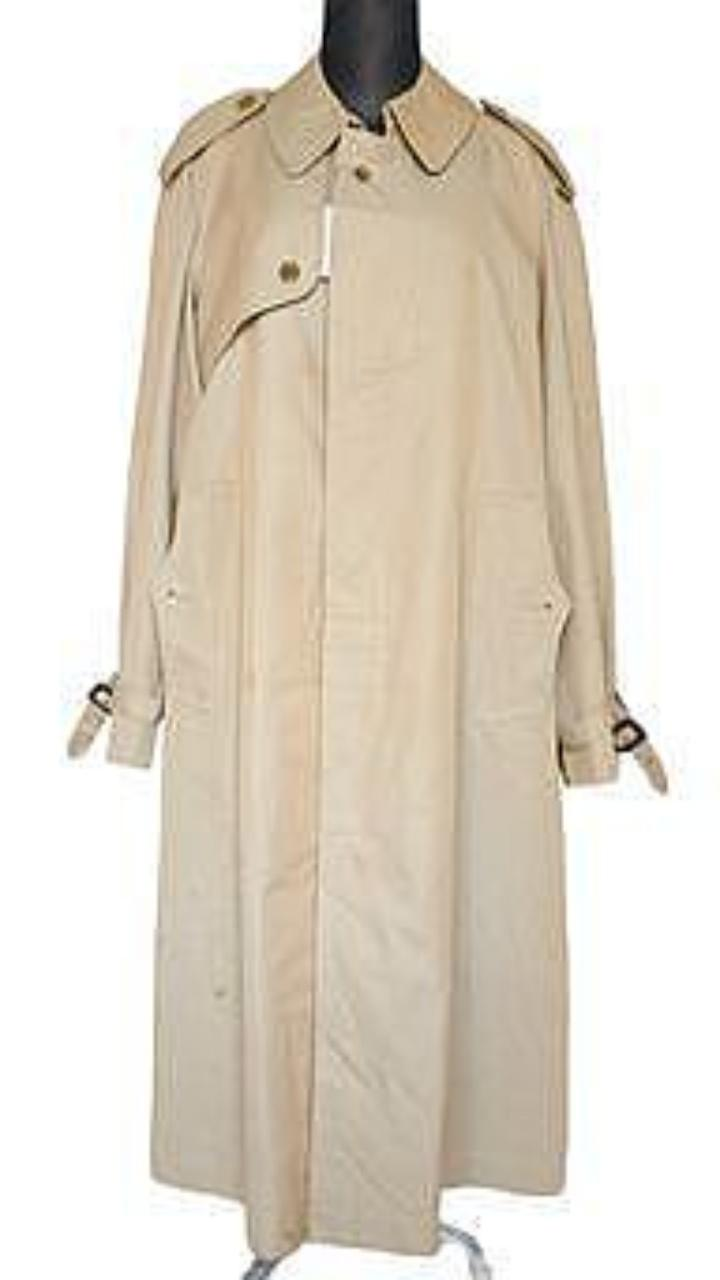Coat: (70, 55, 664, 1256)
